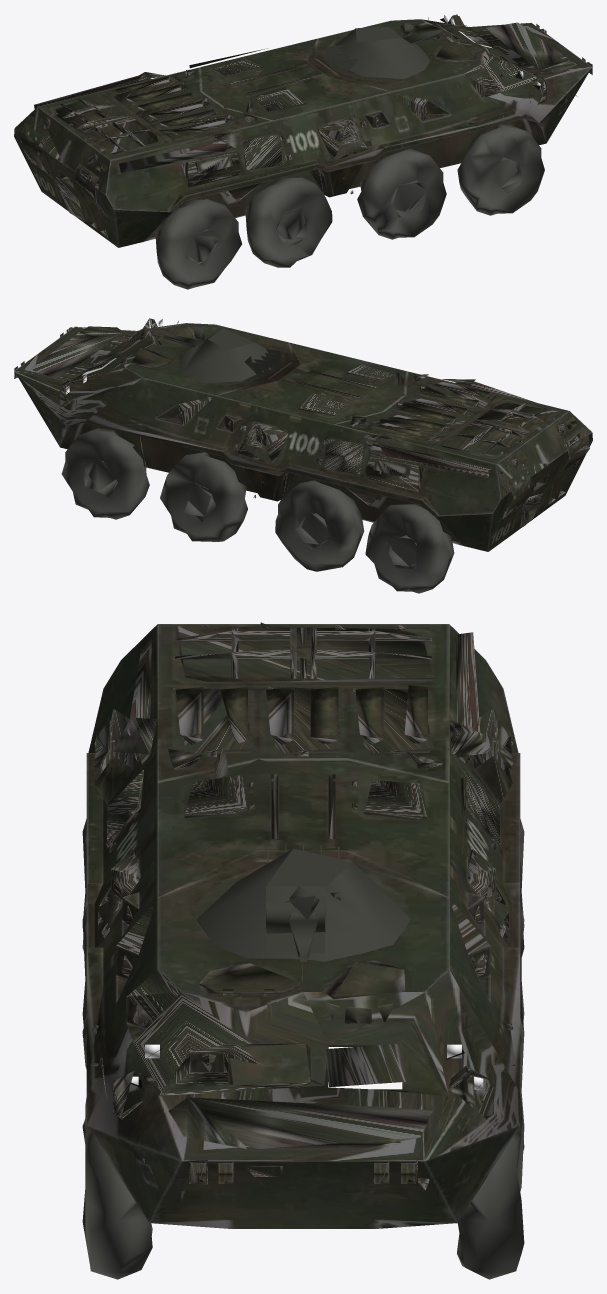
File: btr.lod0.glb
3 renders of one model, top to bottom at view 1: azimuth 30°, elevation 25°; view 2: azimuth 150°, elevation 25°; view 3: azimuth 270°, elevation 25°, orthographic. The views are drawn at different scales.
Parts seen in each view (by area): view 1: Object_2, Object_3; view 2: Object_2, Object_3; view 3: Object_2, Object_3.
Part boxes in pixels (x1,y1,x2,y2): Object_2: [14, 14, 592, 247]; Object_3: [155, 15, 544, 289]; Object_2: [14, 318, 592, 551]; Object_3: [61, 319, 454, 593]; Object_2: [86, 622, 520, 1228]; Object_3: [82, 819, 524, 1279].
Bounding box in the file's own units: 7.68 × 2.43 × 2.89.
Materials: 2 (1 with a texture image).
